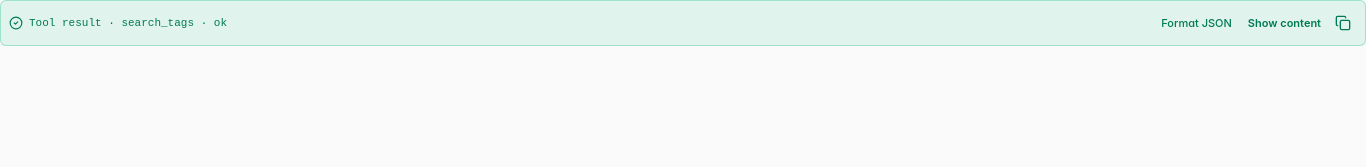
Test: RunConversationPreview › formats valid JSON tool results only when requested
Expected: the text "Show raw" is not shown
Click the button "Format JSON". click: (1197, 23)
box: [1153,9,1240,37]
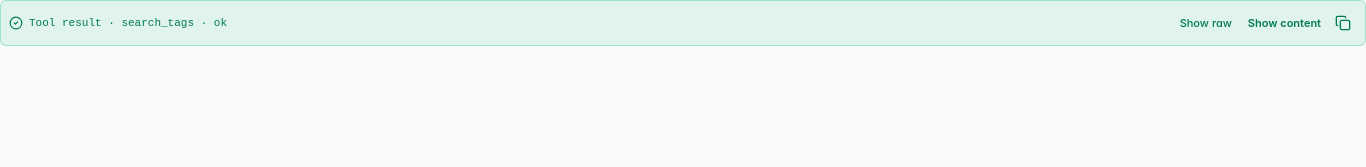
Click the button "Tool result · search_tags · ok". click: (128, 23)
box: [9,16,1164,30]
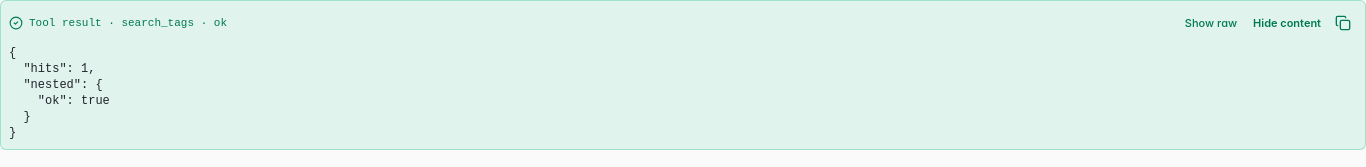
Click the button "Show raw". click: (1211, 23)
box: [1177,9,1245,37]
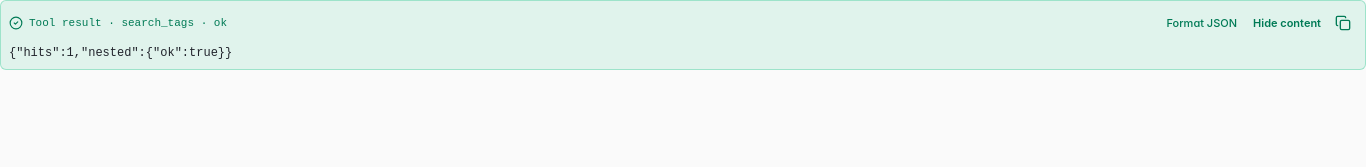
Expected: the text "{\"hits\":1,\"nested\":{\"ok\":true}}" is shown, [9,46,232,60]
